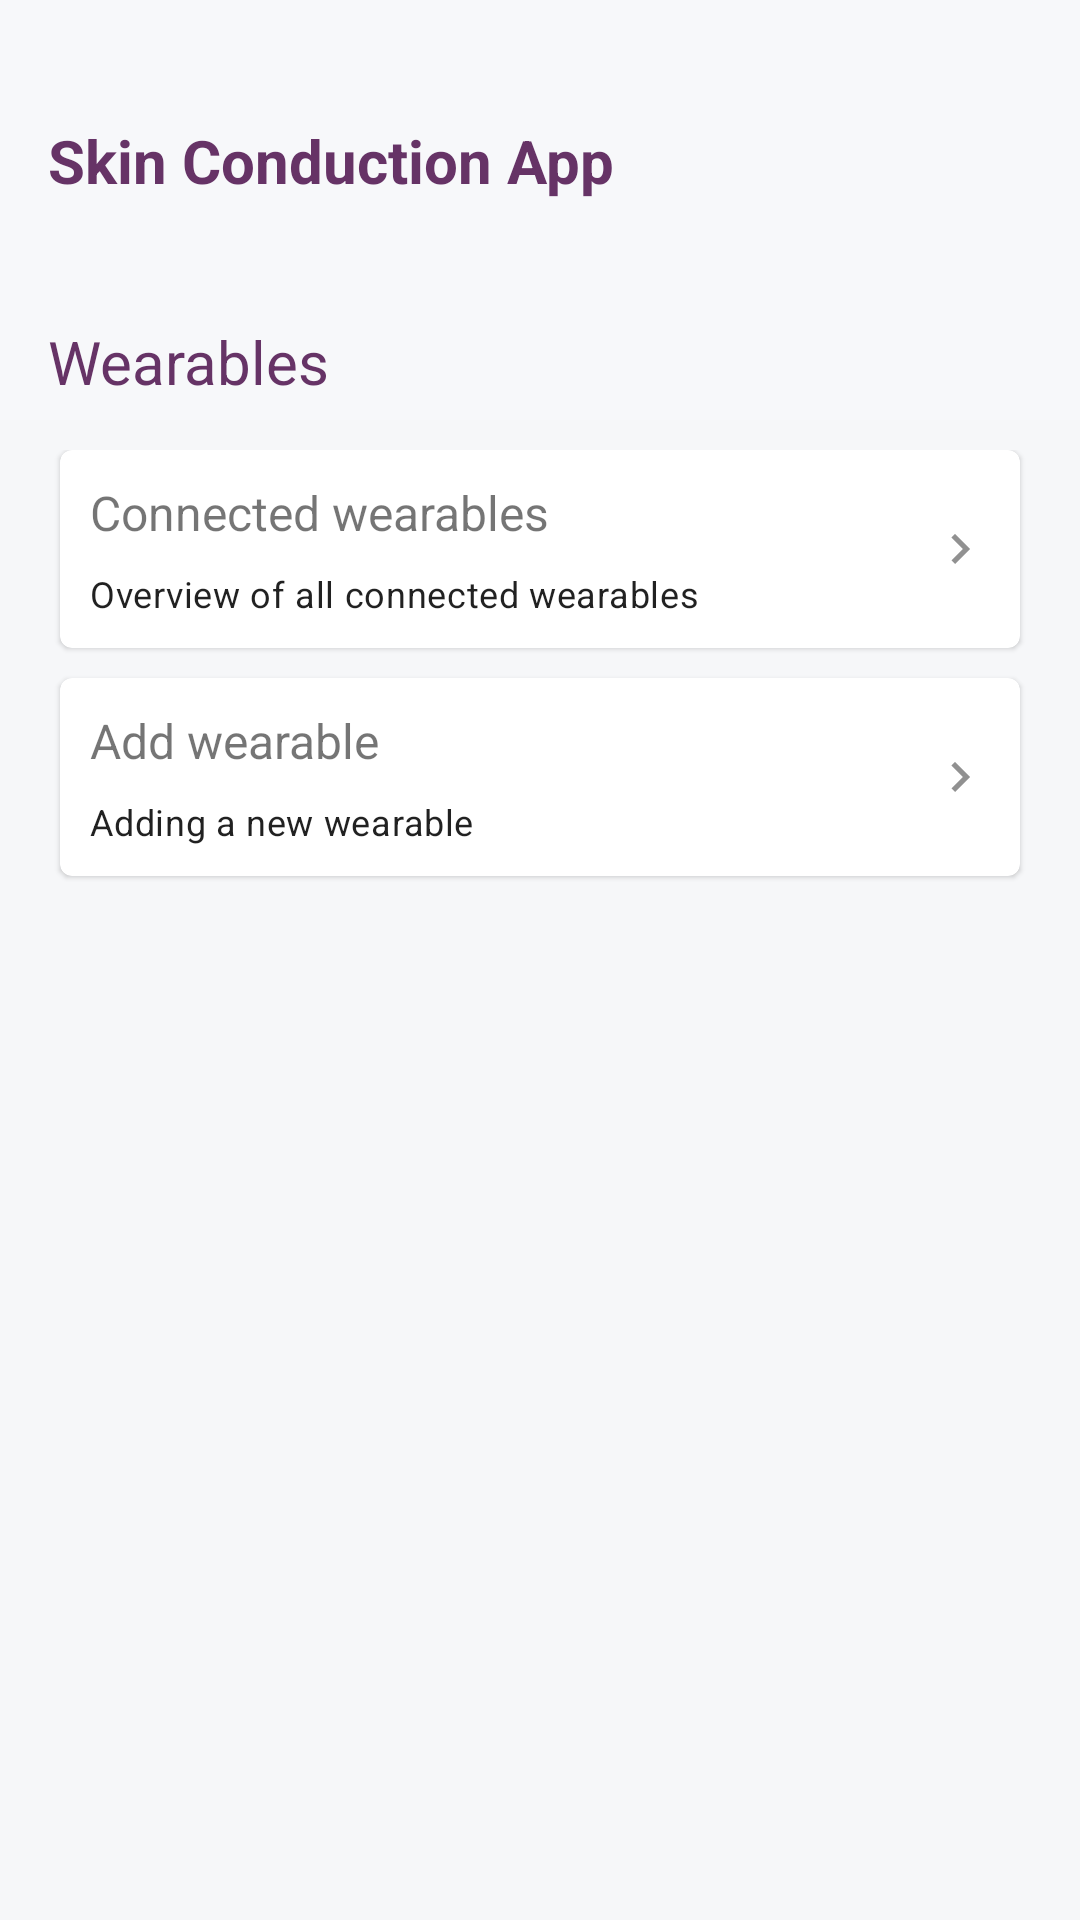

Locate icon controls on the screen. Image size 1080 × 1920, boxes as region(x1, y1, x2, y2).
keyboard arrow right: region(951, 534, 970, 564), region(951, 762, 970, 792)
